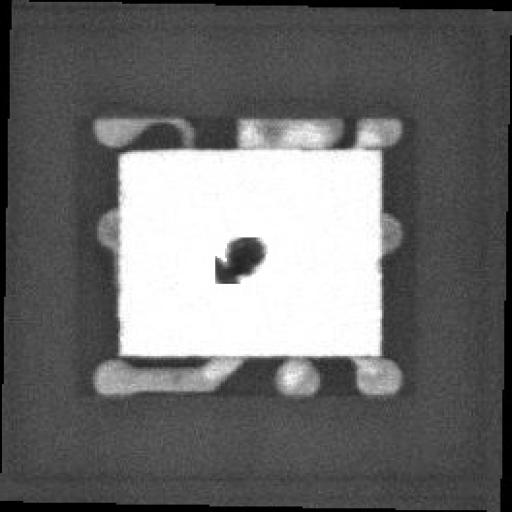DIE_INK: (206, 236, 264, 288)
